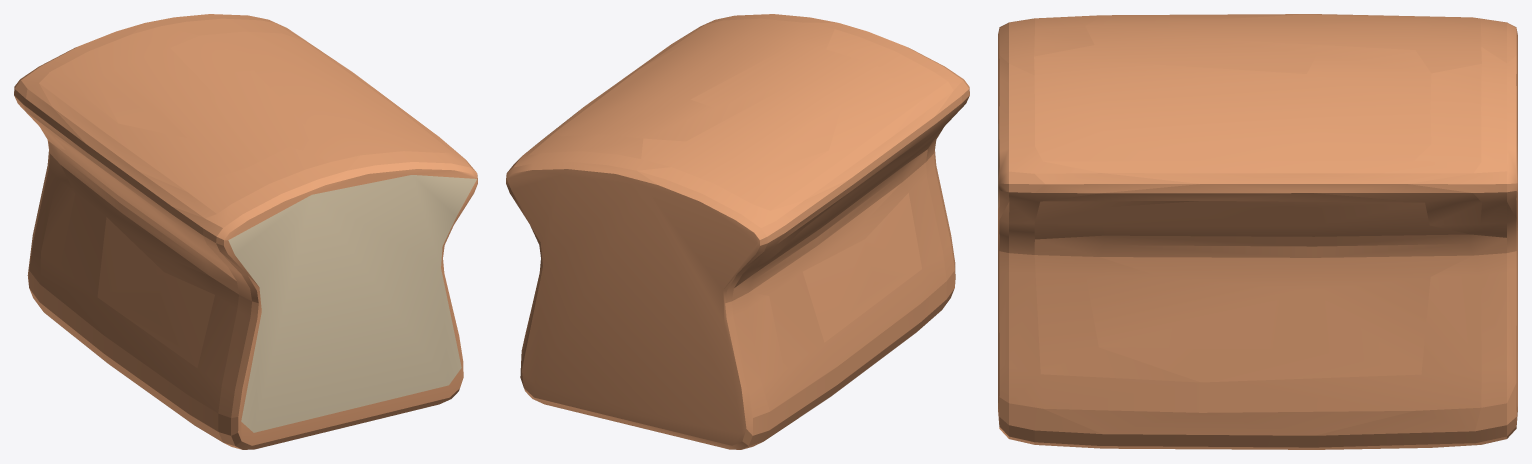
Rendered from Bread.fbx.
The picture shows the model from 3 angles, left to right: view 1: azimuth 30°, elevation 25°; view 2: azimuth 150°, elevation 25°; view 3: azimuth 270°, elevation 25°; orthographic projection. The views are drawn at different scales.
Visible parts, largest first — view 1: Bread; view 2: Bread; view 3: Bread.
Part boxes in pixels (x1=…): Bread: x1=14, y1=14, x2=477, y2=449; Bread: x1=506, y1=14, x2=969, y2=449; Bread: x1=998, y1=14, x2=1517, y2=449.
Size of the model in its own units: 42.33 by 44.99 by 59.83.
